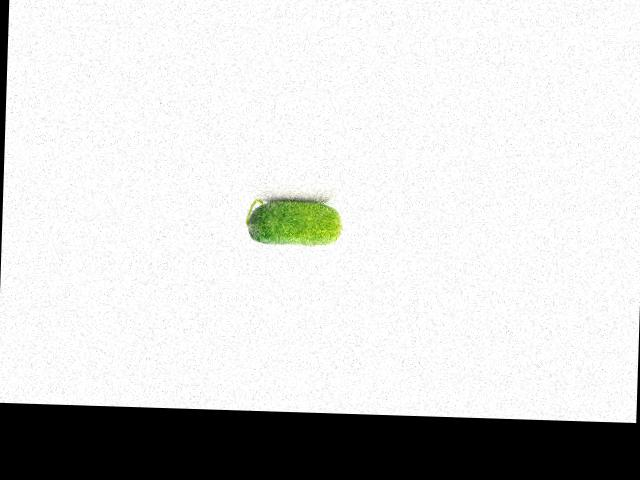cucumber: (246, 197, 344, 246)
